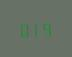nine: (41, 19, 51, 36)
one: (30, 20, 40, 36)
zero: (18, 20, 28, 37)
